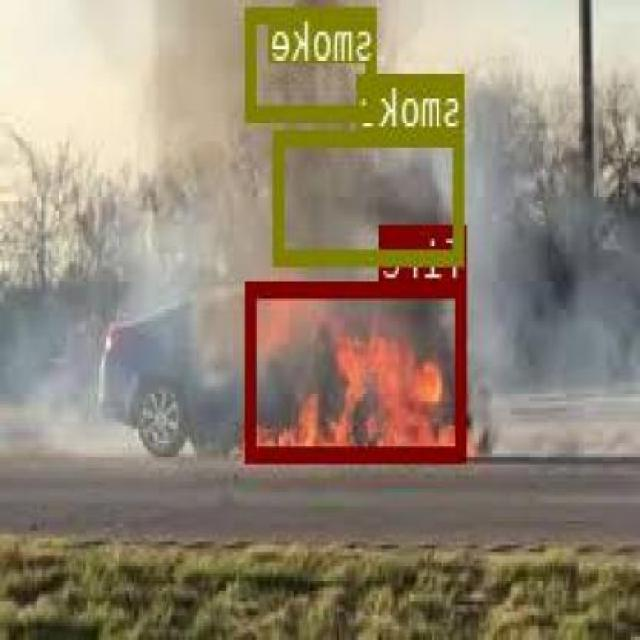Fire: (248, 280, 468, 460)
Smoke: (277, 128, 465, 262), (247, 5, 378, 120)
